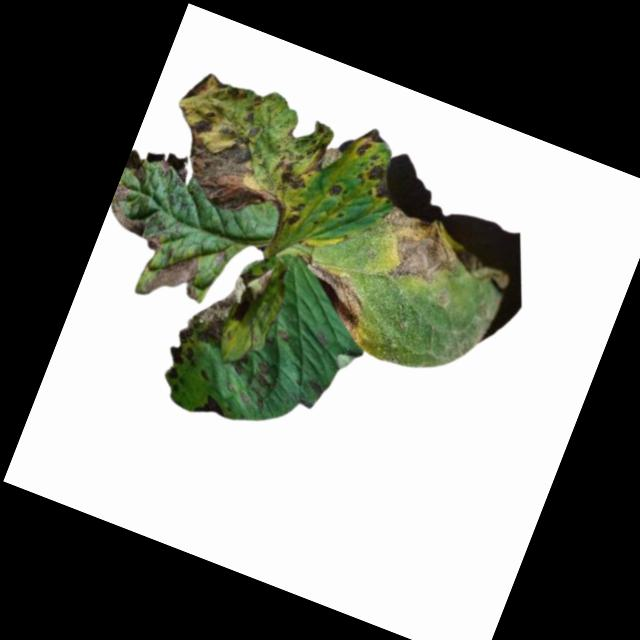Early_blight: (140, 60, 309, 226), (362, 203, 521, 320), (173, 246, 275, 364), (281, 259, 378, 345), (101, 181, 175, 252), (140, 241, 212, 312), (276, 114, 336, 198), (351, 160, 399, 204), (352, 123, 388, 165), (193, 392, 232, 424), (163, 339, 199, 371), (280, 198, 306, 230), (250, 361, 272, 388), (324, 180, 345, 201)
